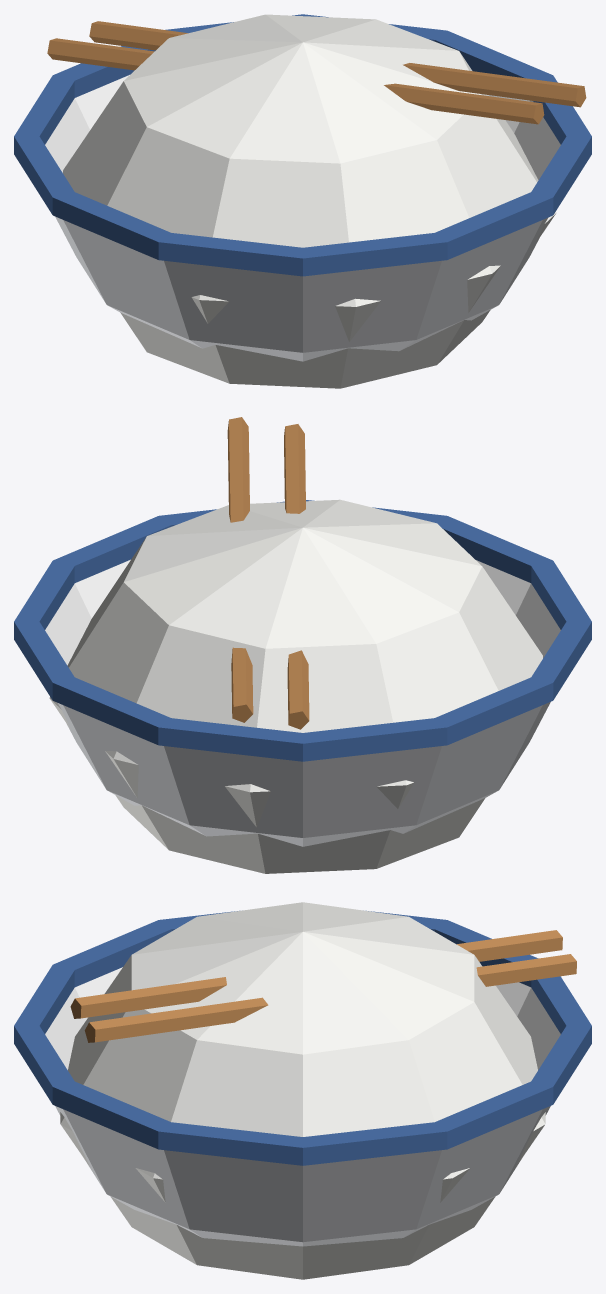
The model's file is Food_RiceBowl.obj.
3 renders of one model, top to bottom at view 1: azimuth 30°, elevation 25°; view 2: azimuth 150°, elevation 25°; view 3: azimuth 270°, elevation 25°, orthographic.
Size of the model in its own units: 2.04 by 1.24 by 2.04.
